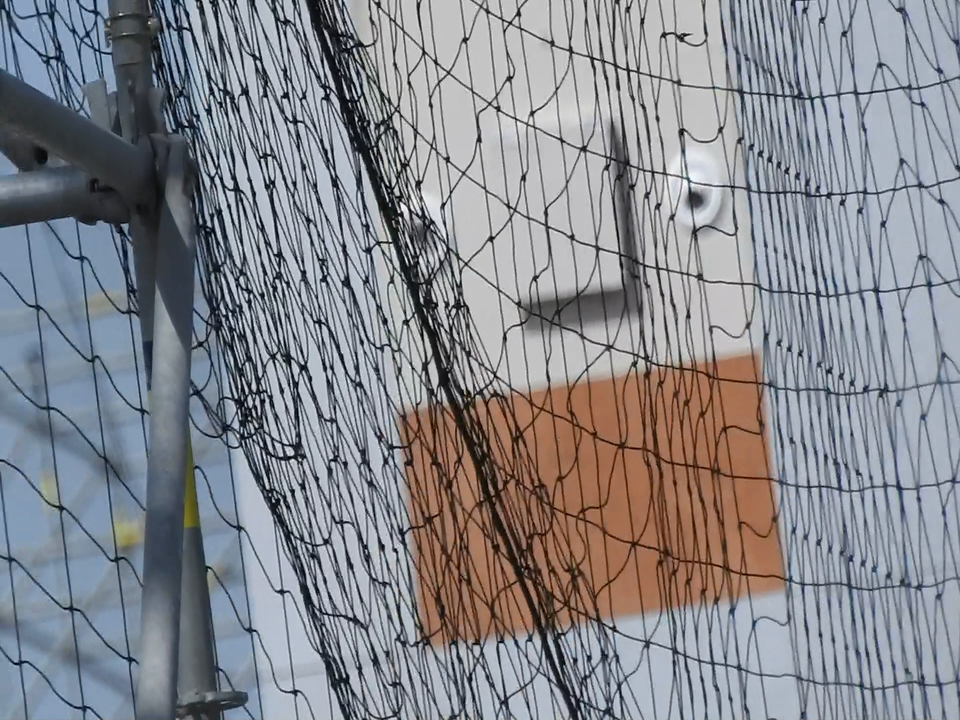facade: (393, 116, 721, 304)
